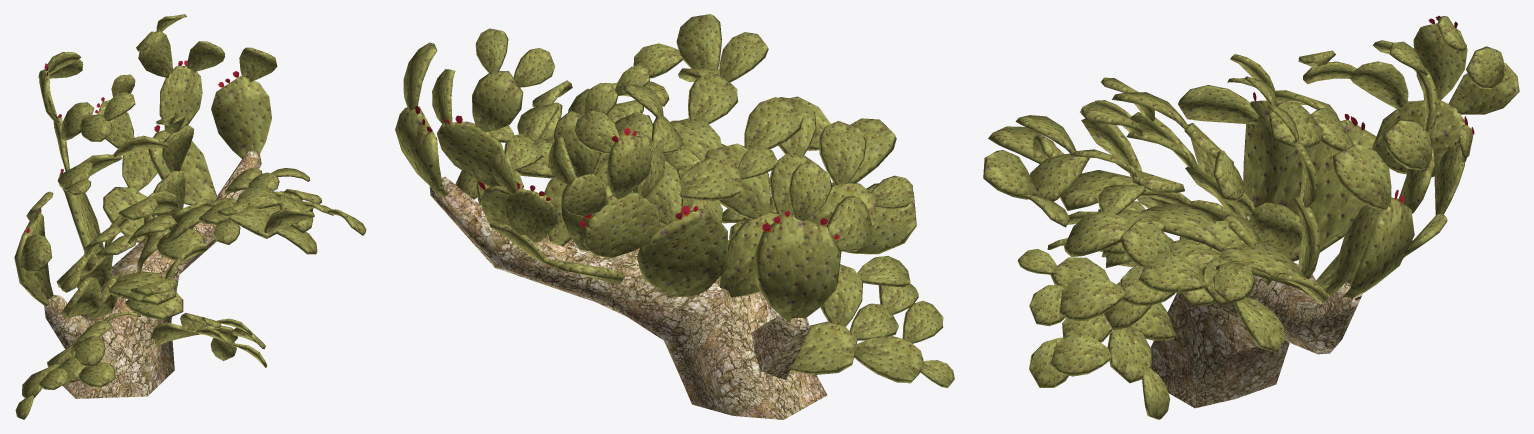
File: Model_Cactus_Bush_01.fbx
3 renders of one model, left to right at view 1: azimuth 30°, elevation 25°; view 2: azimuth 150°, elevation 25°; view 3: azimuth 270°, elevation 25°, orthographic. The views are drawn at different scales.
Parts seen in each view (by area): view 1: Cactus_Bush_01_LOD0; view 2: Cactus_Bush_01_LOD0; view 3: Cactus_Bush_01_LOD0.
Part boxes in pixels (x1,y1,x2,y2): Cactus_Bush_01_LOD0: (14, 14, 366, 419); Cactus_Bush_01_LOD0: (395, 14, 954, 419); Cactus_Bush_01_LOD0: (983, 16, 1519, 419).
Size of what is drawn, in the model's own units: 302 by 249 by 292.
